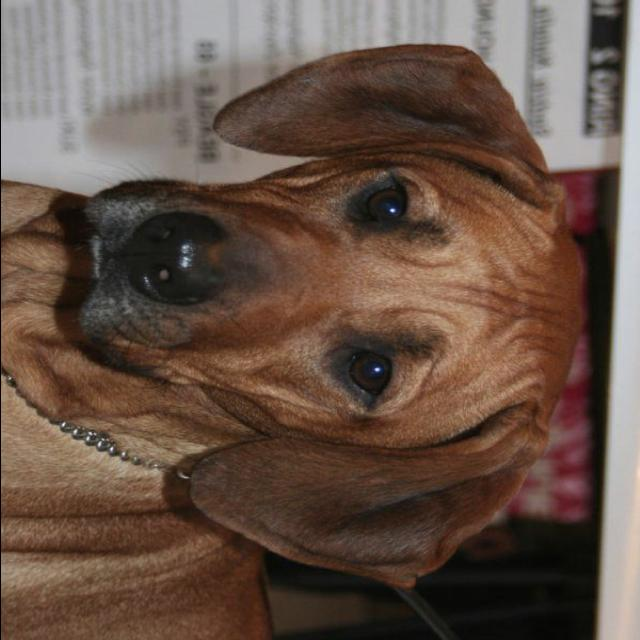rhodesian_ridgeback: (3, 38, 599, 640)
